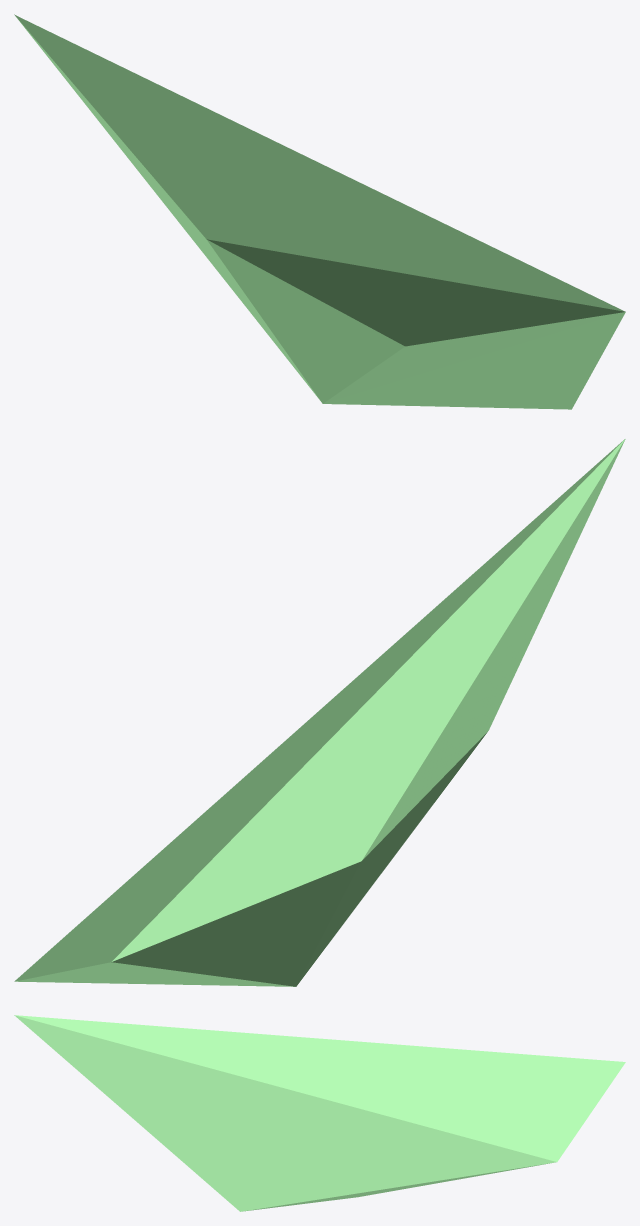
The model's file is xarm7_with_gripper_LR4_R560_link6_respondable_coll_22.dae.
The picture shows the model from 3 angles, top to bottom: view 1: azimuth 30°, elevation 25°; view 2: azimuth 150°, elevation 25°; view 3: azimuth 270°, elevation 25°; orthographic projection. The views are drawn at different scales.
Parts seen in each view (by area): view 1: Node_000001B88F9DE460; view 2: Node_000001B88F9DE460; view 3: Node_000001B88F9DE460.
Part boxes in pixels (box(x1,y1,x2,y2)): Node_000001B88F9DE460: box(14, 14, 625, 409); Node_000001B88F9DE460: box(14, 439, 625, 986); Node_000001B88F9DE460: box(14, 1015, 625, 1211).
Bounding box in the file's own units: 0.0134 × 0.0183 × 0.0571.
